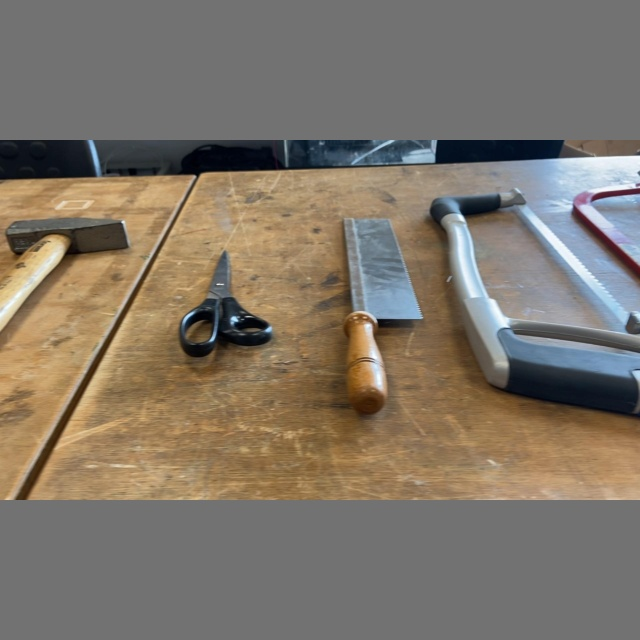scissor: (174, 244, 279, 363)
